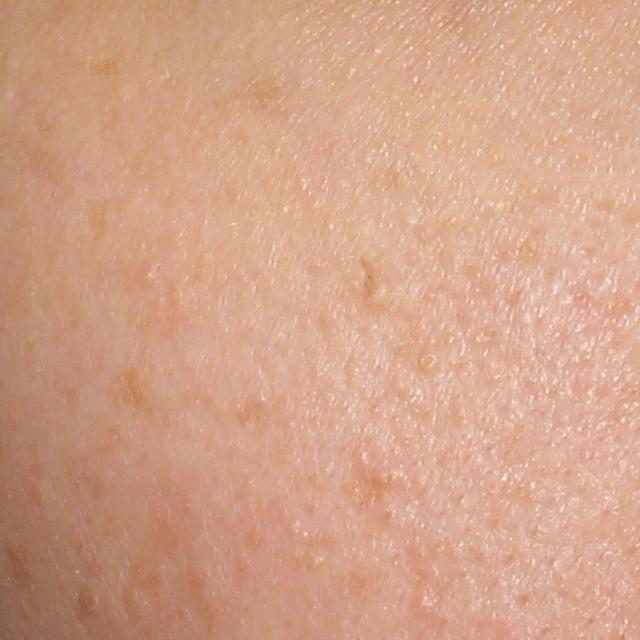comedo: (359, 274, 404, 314), (134, 263, 163, 294), (375, 466, 406, 488), (412, 590, 433, 619), (416, 351, 443, 372), (354, 450, 373, 471)
melasma: (234, 72, 296, 110), (107, 357, 147, 412), (79, 196, 116, 248), (66, 51, 130, 80), (72, 584, 102, 623)
